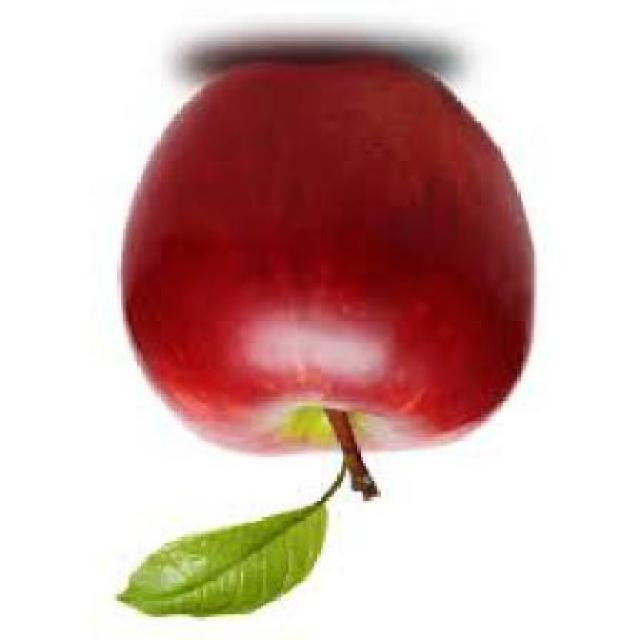BIODEGRADABLE: (125, 57, 541, 457), (122, 509, 332, 620)
